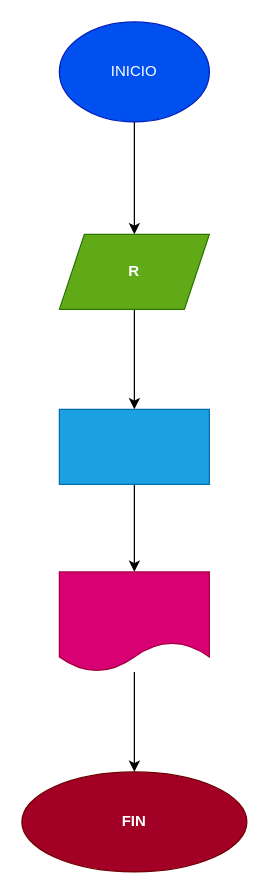
This 269x894 diagram has some shape labels left out. Each missing label, with the box of its shape:
A = PI*R*R 2 P = 2*PI*R: (58, 408, 209, 484)
A,P: (58, 571, 209, 672)
